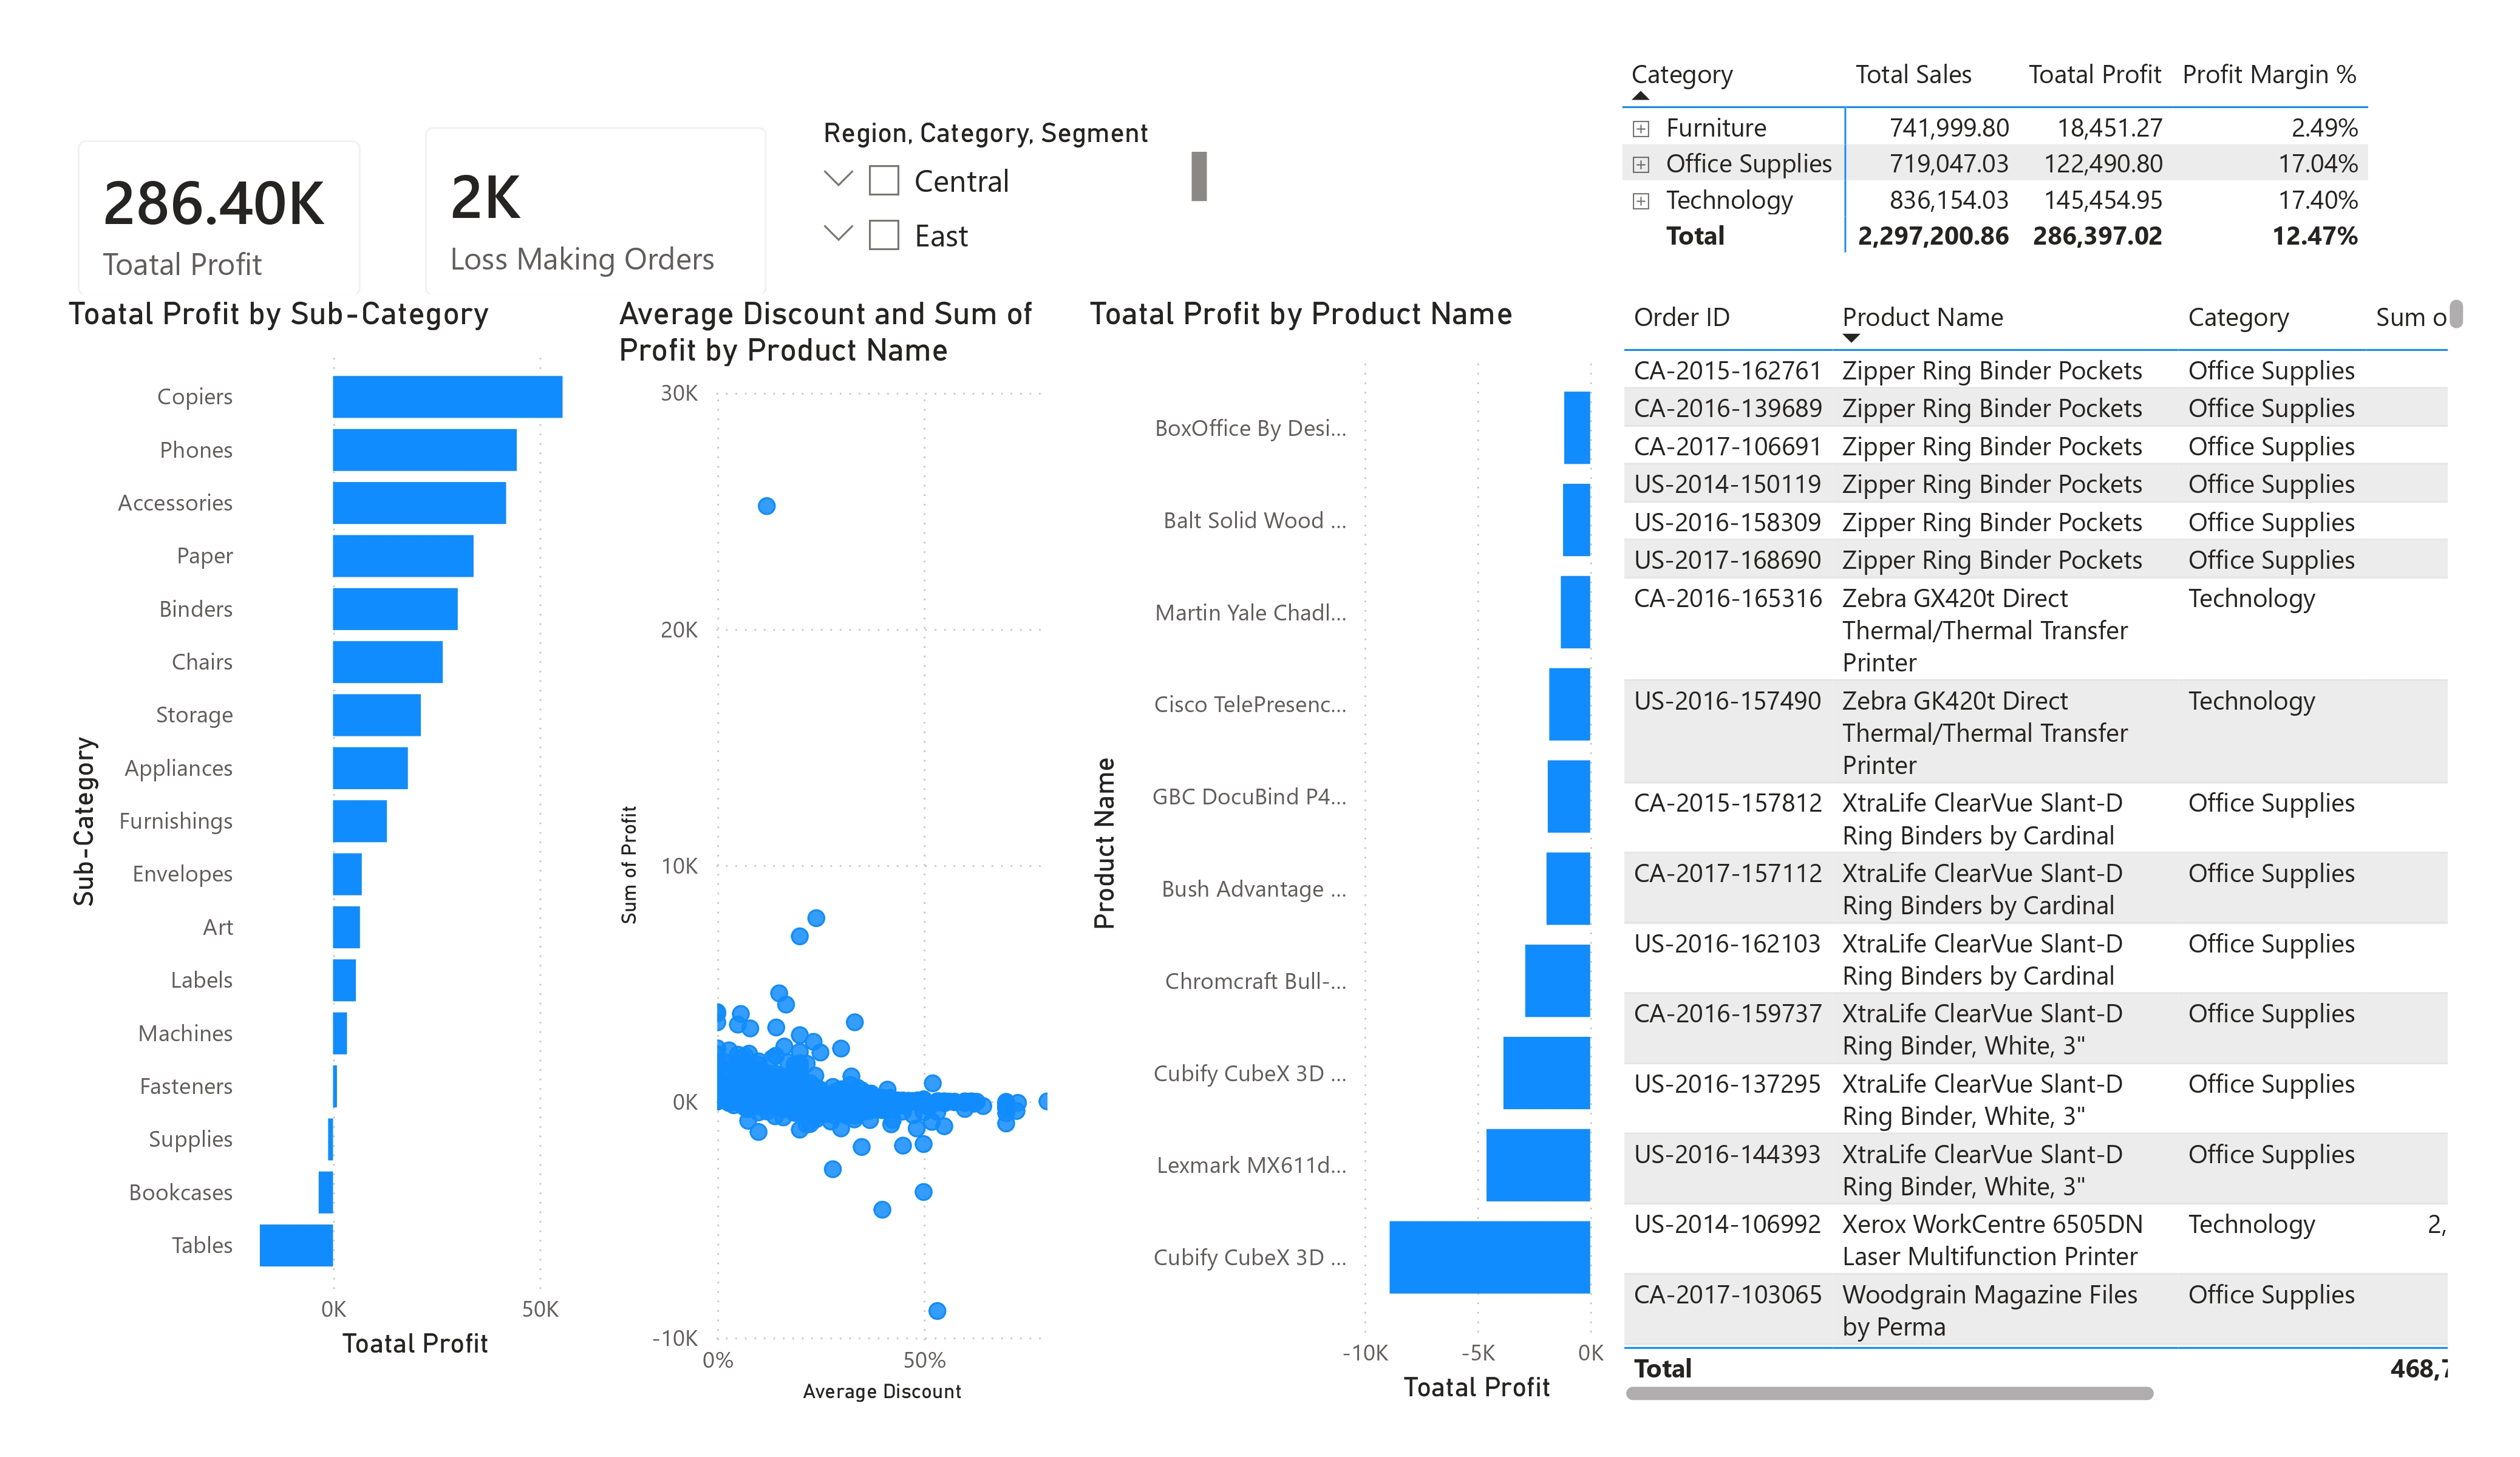

What the dashboard file says about the page in this screenshot:
{"tool":"powerbi","page":{"name":"Profit Leakage Analysis","canvas":[1280,720],"ordinal":1},"visuals":[{"type":"cardVisual","fields":{"Data":["Sample - Superstore.Toatal Profit"]},"box":[0,33.1,182.9,115.7],"z":0},{"type":"cardVisual","fields":{"Data":["Sample - Superstore.Loss Making Orders"]},"box":[182.7,26,214,122.7],"z":1000},{"type":"barChart","fields":{"Category":["Sample - Superstore.Sub-Category"],"Y":["Sample - Superstore.Toatal Profit"]},"box":[7.2,130.7,290.1,566],"z":2000},{"type":"barChart","fields":{"Category":["Sample - Superstore.Product Name"],"Y":["Sample - Superstore.Toatal Profit"]},"box":[545.4,130.7,280.3,589.3],"z":3000},{"type":"scatterChart","fields":{"Y":["Sum(Sample - Superstore.Profit)"],"Category":["Sample - Superstore.Product Name"],"X":["Sample - Superstore.Average Discount"]},"box":[297.3,130.7,248.1,589.3],"z":4000},{"type":"tableEx","fields":{"Values":["Sample - Superstore.Order ID","Sample - Superstore.Product Name","Sample - Superstore.Category","Sum(Sample - Superstore.Sales)","Sum(Sample - Superstore.Discount)","Sum(Sample - Superstore.Profit)"]},"box":[825.7,128.1,454,591.9],"z":5000},{"type":"slicer","fields":{"Values":["Sample - Superstore.Region","Sample - Superstore.Category","Sample - Superstore.Segment"]},"box":[396.7,33.1,220.3,83.3],"z":6000},{"type":"pivotTable","fields":{"Rows":["Sample - Superstore.Category","Sample - Superstore.Sub-Category"],"Values":["Sample - Superstore.Total Sales","Sample - Superstore.Toatal Profit","Sample - Superstore.Profit Margin %"]},"box":[825.7,0,454,128.1],"z":6001}]}

Visuals, with their boxes on the page's 1280x720 design canvas (x1, y1, x2, y2). These are canvas units, not pixel positions in the 2520x1457 screenshot, which may show the page scaled, cropped or inside an application window:
cardVisual - Sample - Superstore.Toatal Profit: x1=0 y1=33 x2=183 y2=149
cardVisual - Sample - Superstore.Loss Making Orders: x1=183 y1=26 x2=397 y2=149
barChart - Sample - Superstore.Sub-Category x Sample - Superstore.Toatal Profit: x1=7 y1=131 x2=297 y2=697
barChart - Sample - Superstore.Product Name x Sample - Superstore.Toatal Profit: x1=545 y1=131 x2=826 y2=720
scatterChart - Sum(Sample - Superstore.Profit) x Sample - Superstore.Product Name: x1=297 y1=131 x2=545 y2=720
tableEx - Sample - Superstore.Order ID x Sample - Superstore.Product Name: x1=826 y1=128 x2=1280 y2=720
slicer - Sample - Superstore.Region x Sample - Superstore.Category: x1=397 y1=33 x2=617 y2=116
pivotTable - Sample - Superstore.Category x Sample - Superstore.Sub-Category: x1=826 y1=0 x2=1280 y2=128
